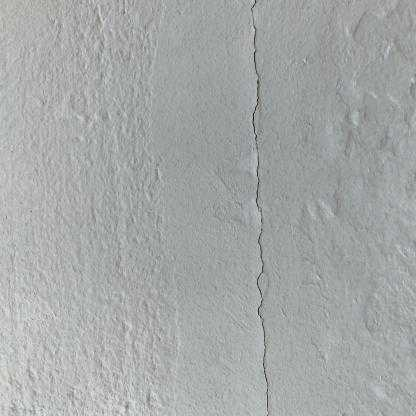crack: (250, 0, 269, 413)
